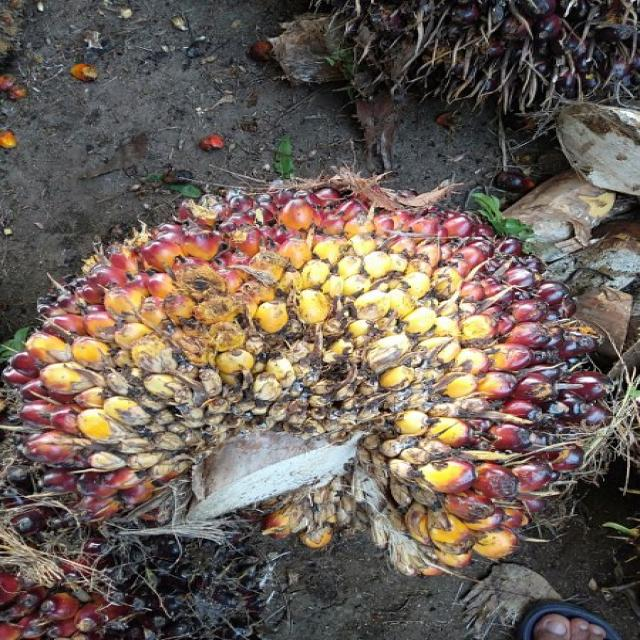fraksi 1: (4, 167, 600, 573)
